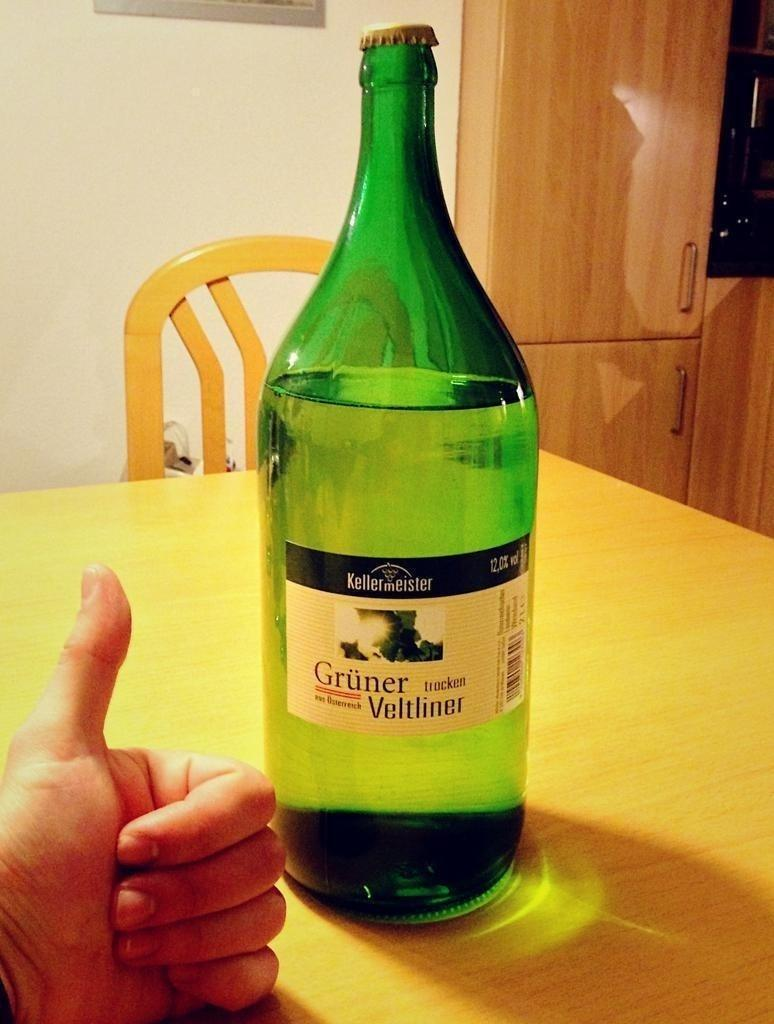bottle-glass: (251, 18, 543, 938)
